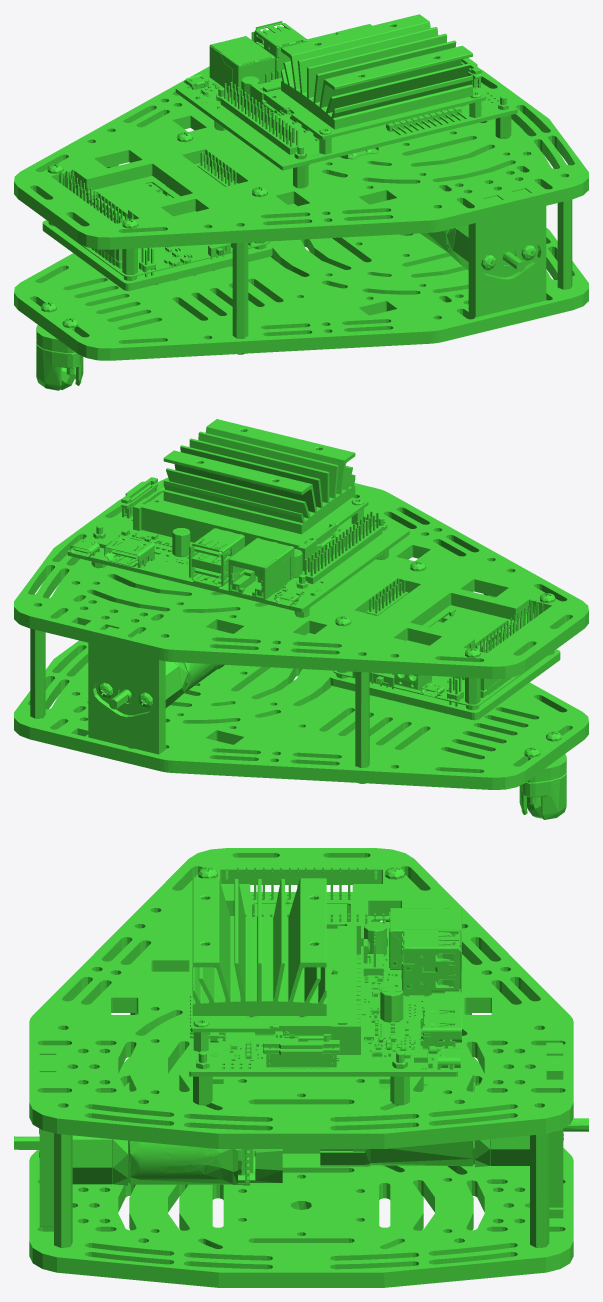
Rendered from chassis1.dae.
The picture shows the model from 3 angles, top to bottom: view 1: azimuth 30°, elevation 25°; view 2: azimuth 150°, elevation 25°; view 3: azimuth 270°, elevation 25°; orthographic projection. The views are drawn at different scales.
Visible parts, largest first — view 1: chassis; view 2: chassis; view 3: chassis.
Part boxes in pixels (box(x1,y1,x2,y2)): chassis: box(14, 14, 588, 390); chassis: box(14, 419, 588, 819); chassis: box(14, 848, 588, 1287).
Size of the model in its own units: 0.2022 by 0.169 by 0.1119.
